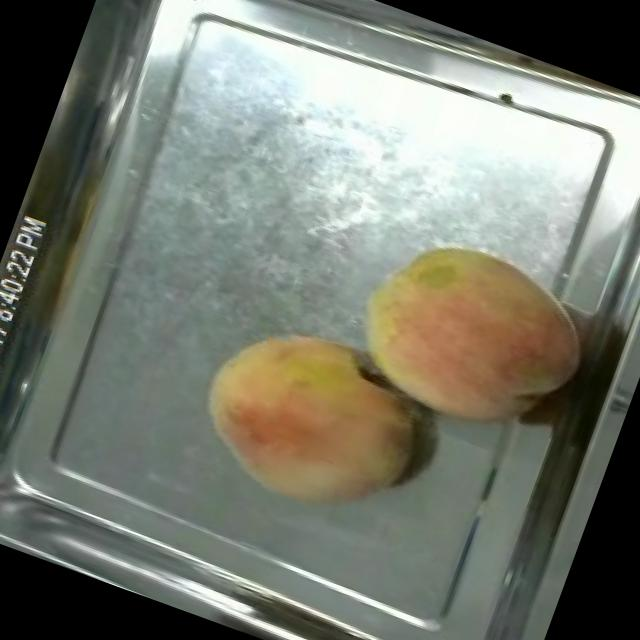Fruit: (327, 207, 614, 463), (174, 295, 450, 541)
